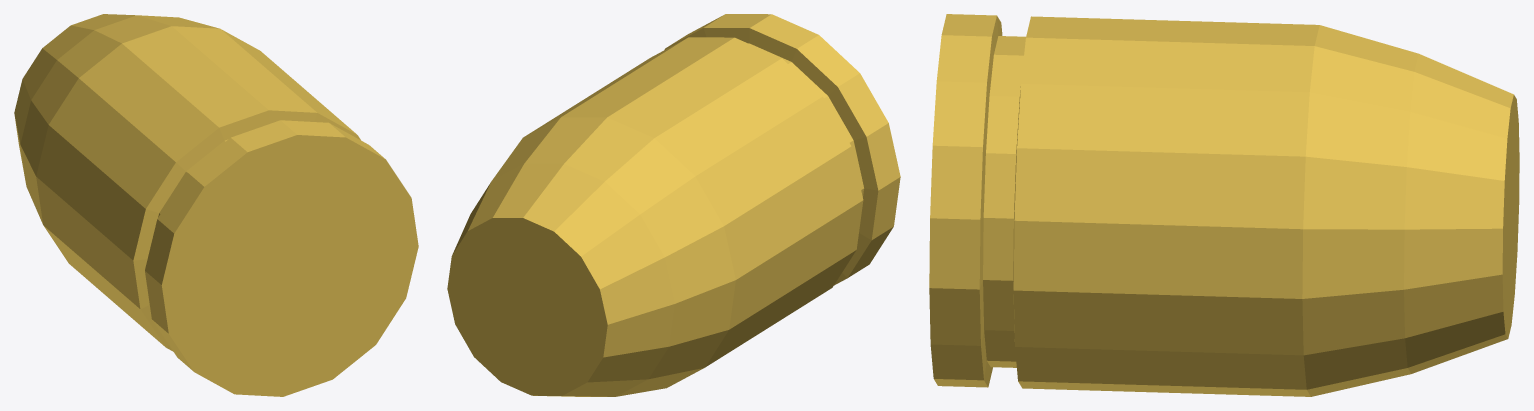
The model's file is pistol_bullet.fbx.
3 views of the same model, side by side, from view 1: azimuth 30°, elevation 25°; view 2: azimuth 150°, elevation 25°; view 3: azimuth 270°, elevation 25° (orthographic). The views are drawn at different scales.
Visible parts, largest first — view 1: Bullet; view 2: Bullet; view 3: Bullet.
Boxes of the visible parts, x1,y1,x2,y2 form: Bullet: (14, 14, 418, 396); Bullet: (447, 14, 900, 396); Bullet: (929, 14, 1519, 396).
Size of the model in its own units: 31.31 by 29.34 by 46.38.
